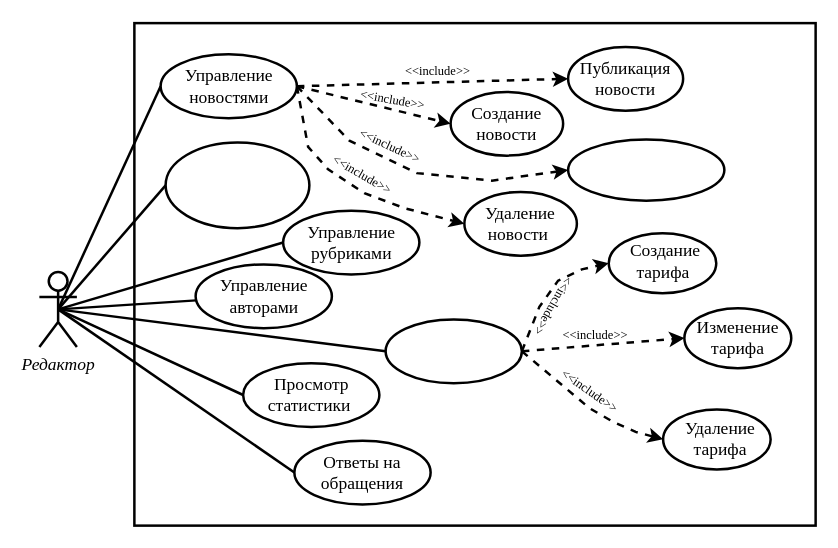
The diagram is 838 pixels wide and 548 high, and some of its shapes have lost their labels. Each missing label, with the box of its shape:
Редактирование новости: (566, 138, 725, 201)
Управление справочной информацией: (164, 141, 310, 229)
Управление тарифами: (384, 318, 522, 384)
